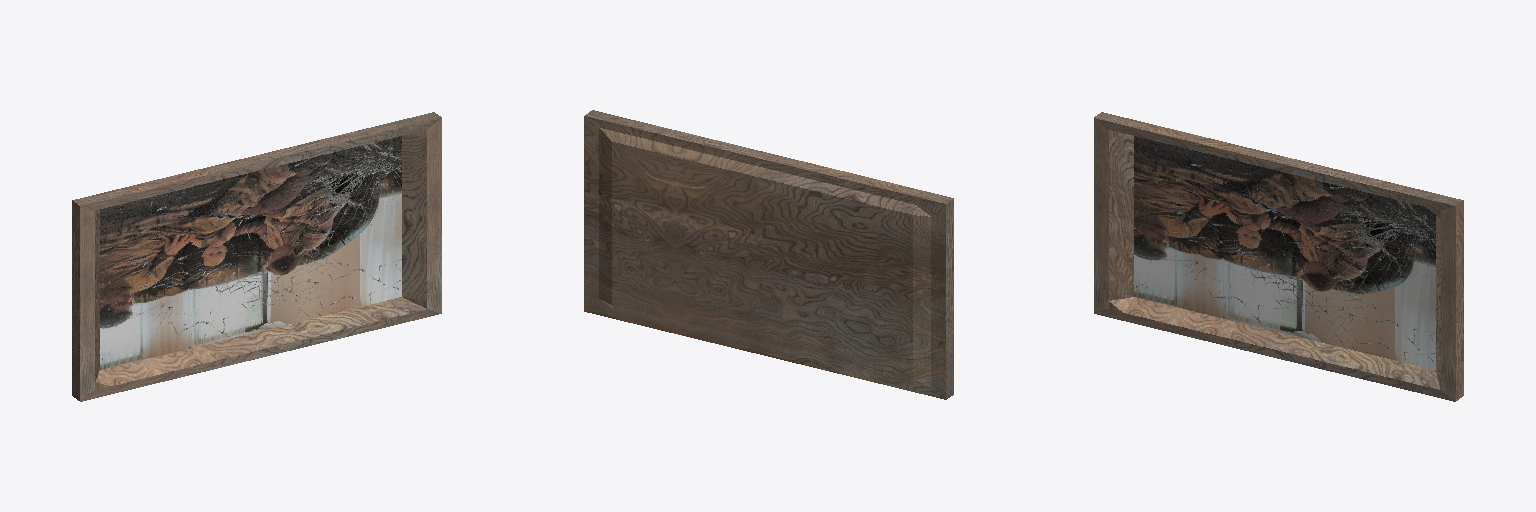
3 renders of one model, left to right at view 1: azimuth 30°, elevation 25°; view 2: azimuth 150°, elevation 25°; view 3: azimuth 330°, elevation 25°, orthographic.
Visible parts, largest first — view 1: Box01; view 2: Box01; view 3: Box01.
Boxes of the visible parts, box(x1,y1,x2,y2) form: Box01: box(72, 112, 441, 401); Box01: box(584, 110, 953, 399); Box01: box(1094, 112, 1463, 401).
Bounding box in the file's own units: 37.74 × 19.52 × 1.94.
1 materials, 1 textured.